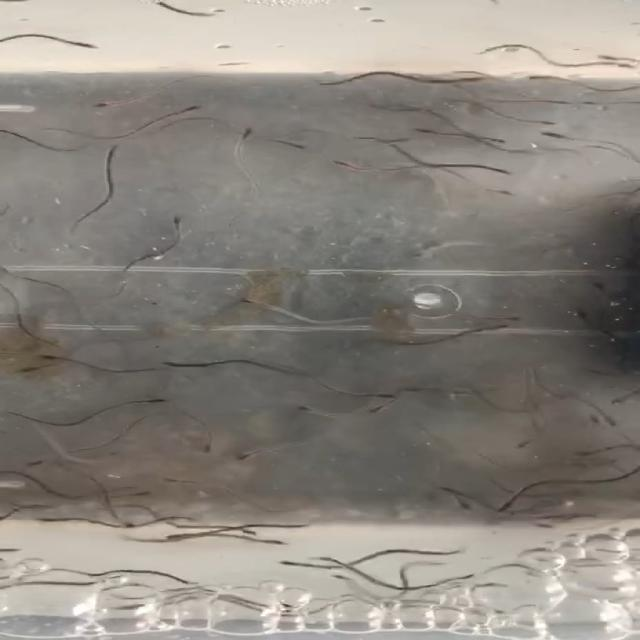active_glass_eel: (350, 386, 402, 403), (564, 304, 602, 326), (228, 294, 277, 311), (295, 403, 337, 422), (57, 36, 103, 53), (485, 73, 540, 86), (306, 553, 348, 570), (232, 447, 278, 462), (331, 158, 379, 172), (568, 446, 627, 457), (516, 432, 554, 449), (87, 96, 130, 111), (442, 494, 479, 511), (492, 497, 523, 517), (527, 130, 583, 141), (20, 362, 64, 376), (154, 476, 205, 488), (24, 452, 62, 468), (600, 410, 630, 430), (246, 535, 286, 550), (27, 352, 72, 365), (193, 436, 225, 454), (432, 482, 467, 498), (126, 394, 172, 406), (485, 311, 530, 323), (276, 558, 320, 570), (128, 486, 160, 502), (222, 522, 258, 536), (414, 124, 447, 139), (607, 389, 640, 404), (366, 401, 404, 414), (97, 140, 124, 158), (476, 322, 516, 334), (156, 104, 202, 114), (165, 211, 192, 228), (480, 186, 518, 198), (520, 116, 565, 126), (233, 125, 256, 144), (160, 358, 196, 370), (591, 279, 616, 296), (109, 512, 134, 529), (280, 139, 312, 152), (579, 408, 605, 424), (99, 449, 128, 463), (547, 95, 577, 108), (597, 53, 625, 61), (614, 63, 637, 70)
